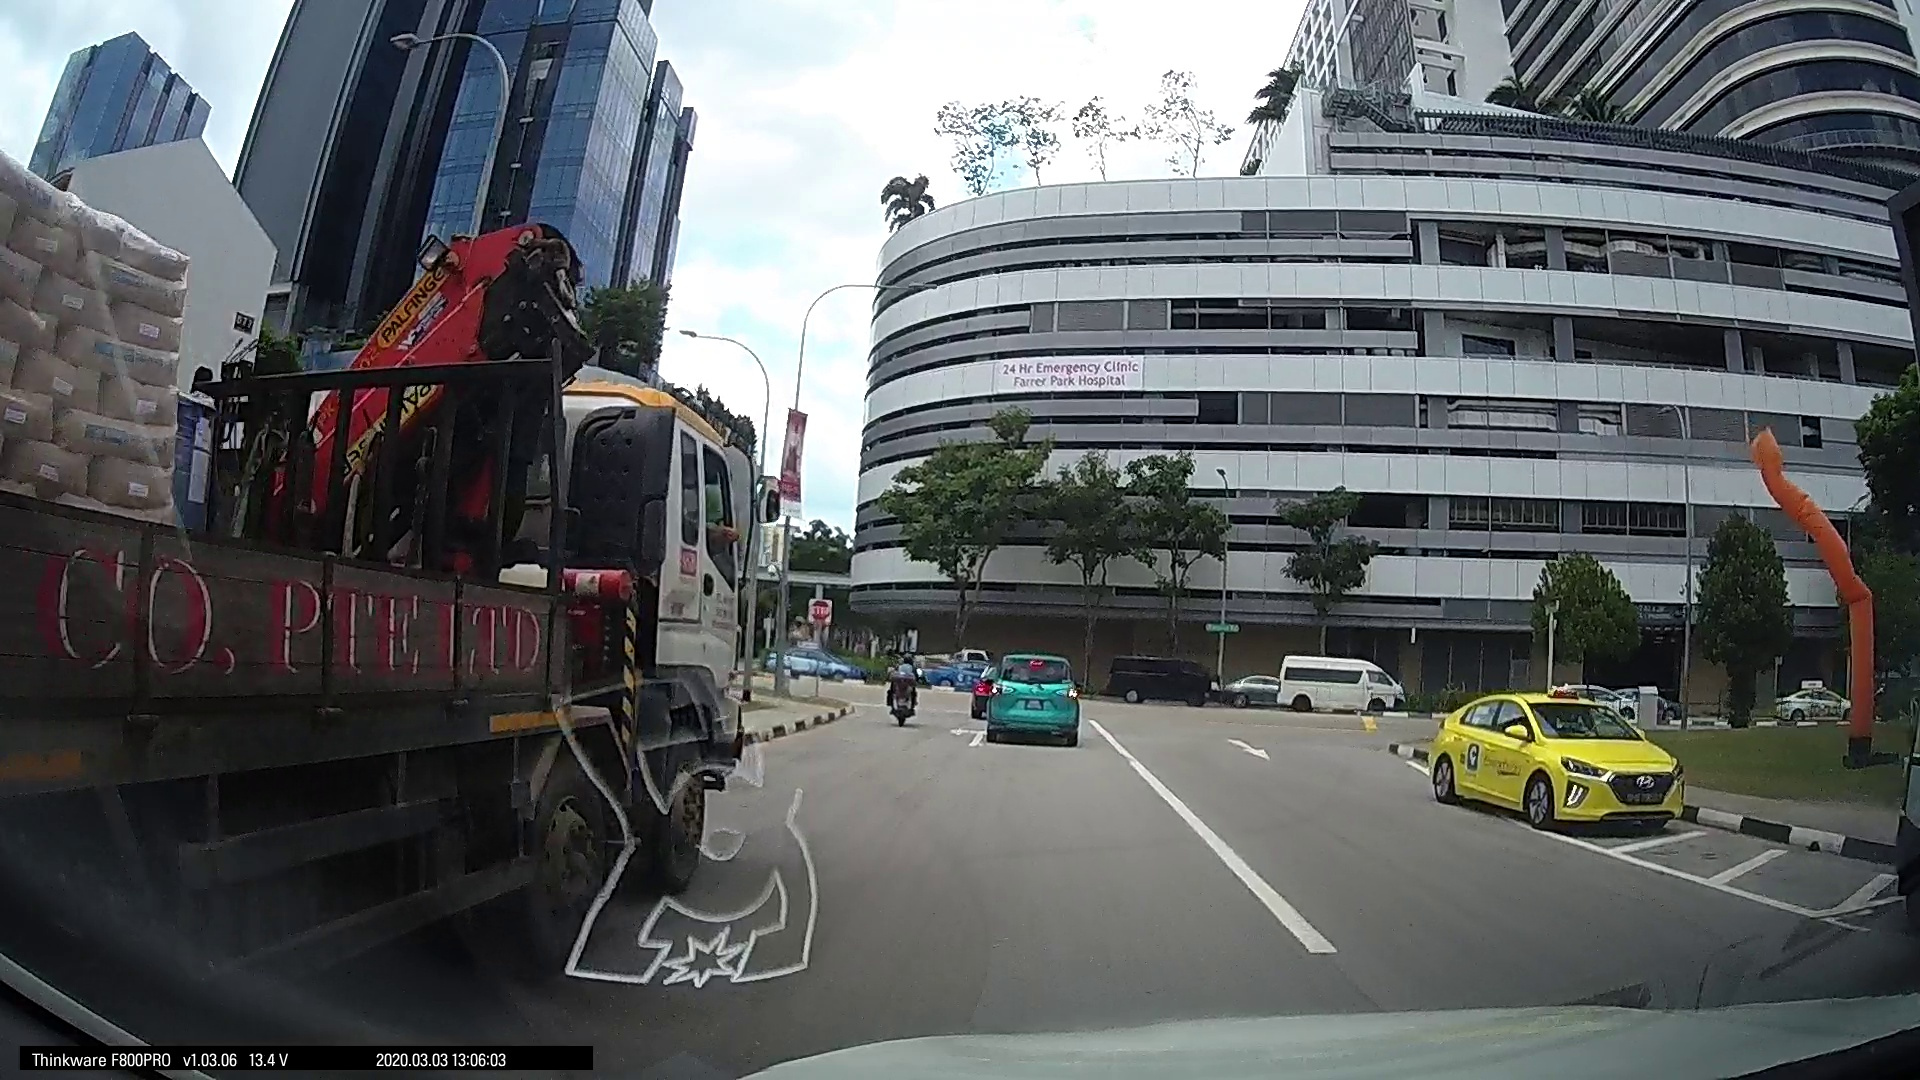Heavy Vehicle: (1, 228, 786, 1035)
Light Vehicle: (1419, 682, 1695, 837), (976, 650, 1077, 742), (1262, 650, 1400, 715), (1101, 647, 1213, 702), (1222, 666, 1282, 705)
